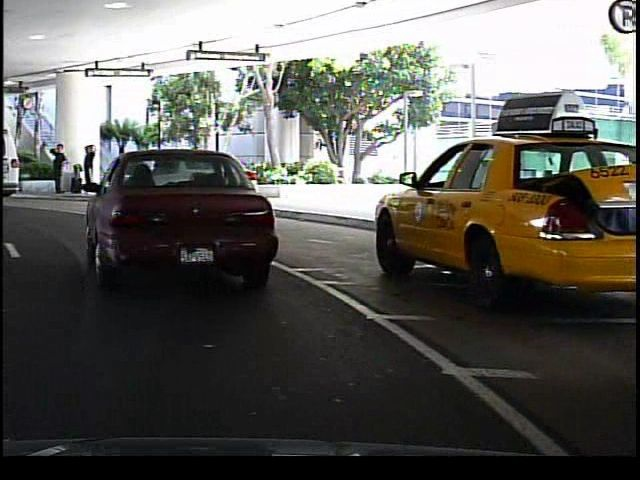person: (132, 143, 160, 198), (44, 140, 66, 199), (77, 141, 96, 195)
